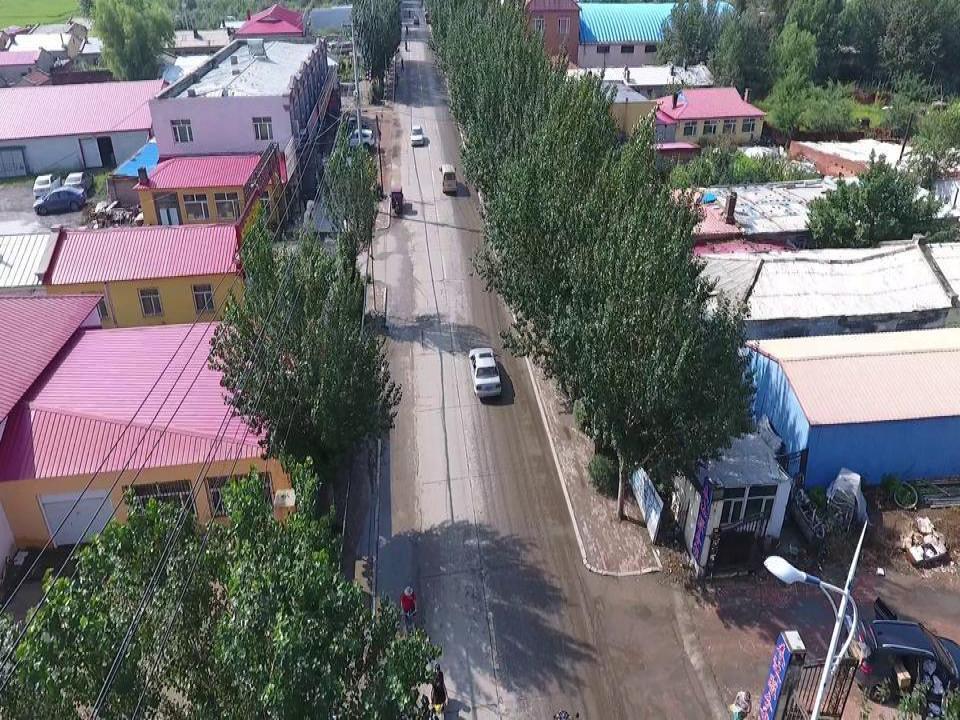car: (845, 596, 957, 703), (30, 187, 88, 216), (468, 347, 501, 397), (29, 173, 65, 200), (61, 169, 95, 196), (338, 128, 375, 149), (339, 116, 368, 132), (410, 124, 424, 145), (412, 15, 419, 24), (405, 24, 409, 33)
van: (438, 163, 458, 192)
